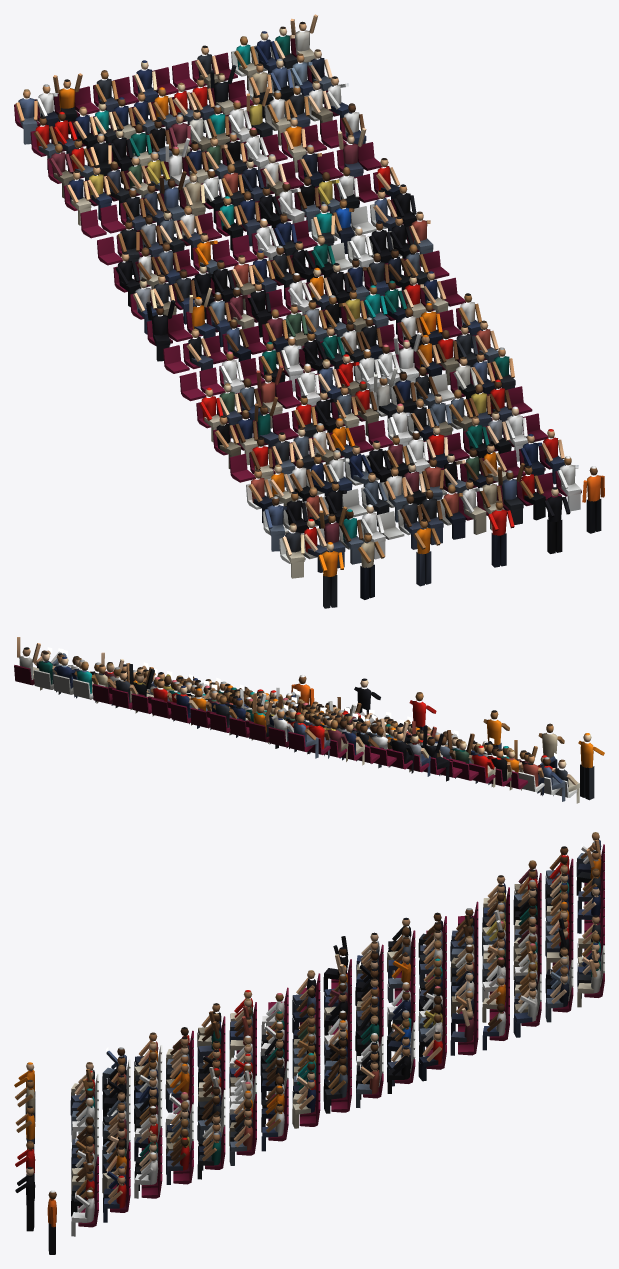
The model's file is stand_T2_kit_6.glb.
The picture shows the model from 3 angles, top to bottom: view 1: azimuth 30°, elevation 25°; view 2: azimuth 150°, elevation 25°; view 3: azimuth 270°, elevation 25°; orthographic projection. The views are drawn at different scales.
Visible parts, largest first — view 1: kit_6; view 2: kit_6; view 3: kit_6.
Part boxes in pixels (x1,y1,x2,y2): kit_6: [14, 14, 604, 608]; kit_6: [14, 637, 604, 803]; kit_6: [14, 832, 604, 1254].
Size of the model in its own units: 8.55 by 8.21 by 14.95.
